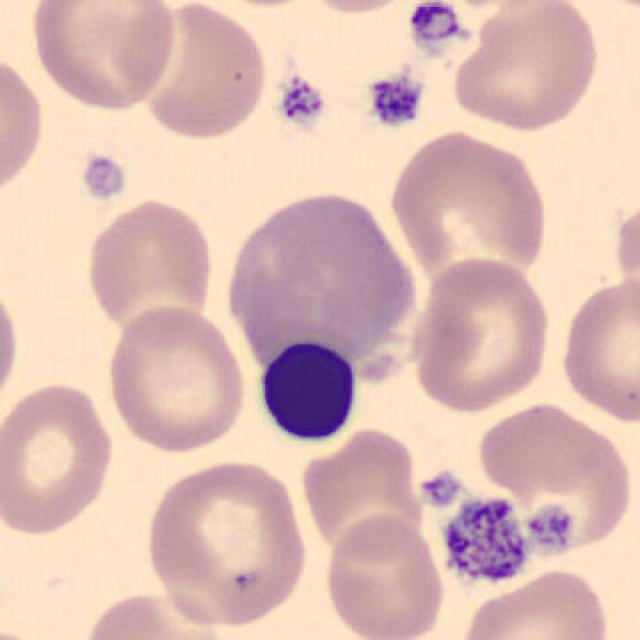Platelets: (436, 492, 534, 591), (366, 72, 427, 130), (405, 0, 466, 53), (524, 501, 578, 555), (76, 150, 130, 204), (276, 74, 327, 131), (418, 469, 464, 510)
RBC: (227, 182, 431, 377), (140, 455, 313, 629), (386, 125, 553, 288), (473, 397, 636, 560), (407, 254, 555, 416), (101, 301, 249, 455), (128, 0, 272, 145), (448, 0, 603, 132), (82, 194, 218, 338), (0, 378, 119, 540), (295, 421, 427, 559), (25, 0, 181, 113), (318, 511, 448, 640), (555, 272, 638, 426), (455, 566, 613, 640), (76, 587, 235, 640), (0, 48, 48, 201), (0, 273, 23, 418), (289, 0, 426, 16), (578, 0, 640, 18), (0, 626, 55, 640)
